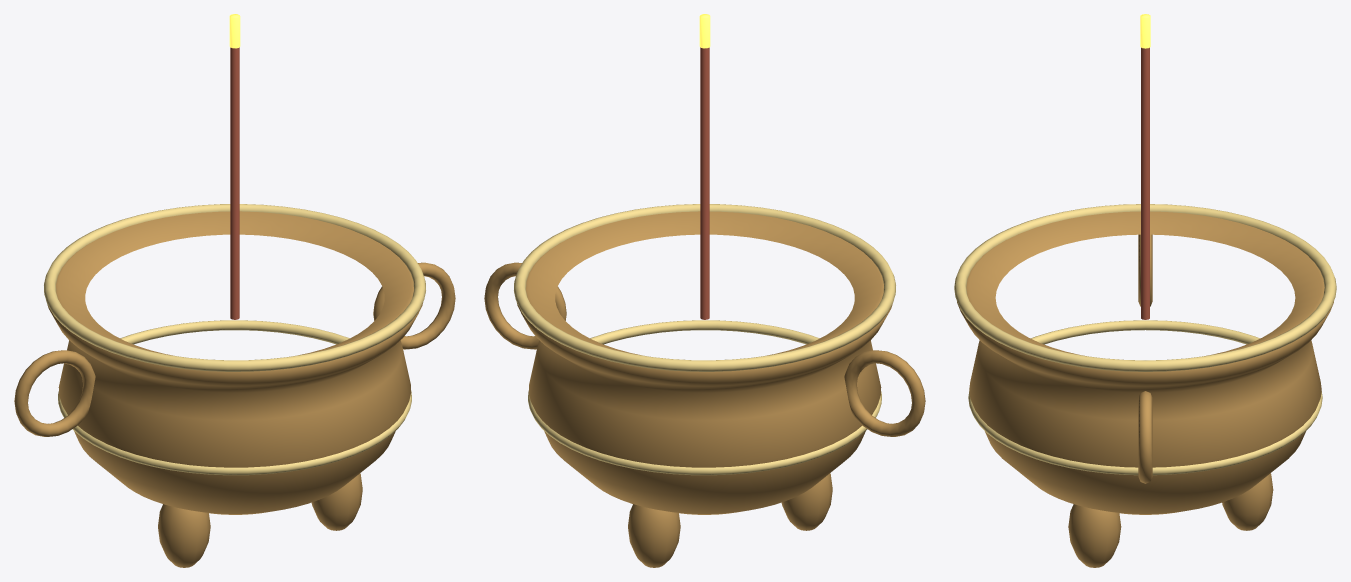
The model's file is incense_1.glb.
3 views of the same model, side by side, from view 1: azimuth 30°, elevation 25°; view 2: azimuth 150°, elevation 25°; view 3: azimuth 270°, elevation 25° (orthographic).
Parts seen in each view (by area): view 1: censer, lip, band, ear-1, stick0, foot1, ear1, foot0; view 2: censer, lip, band, ear-1, stick0, foot2, ear1, foot1; view 3: censer, lip, band, foot0, stick0, foot2, ear1.
Boxes of the visible parts, x1,y1,x2,y2 form: censer: (47,211,422,514); lip: (44,204,425,371); band: (58,320,411,475); ear-1: (14,350,95,436); stick0: (230,47,239,319); foot1: (158,504,210,567); ear1: (373,262,455,349); foot0: (311,473,362,530); censer: (517,211,892,514); lip: (514,204,895,371); band: (528,320,881,475); ear-1: (844,350,925,436); stick0: (700,47,709,319); foot2: (628,504,680,567); ear1: (484,262,566,349); foot1: (781,473,832,530); censer: (957,211,1333,514); lip: (954,204,1336,371); band: (968,320,1322,475); foot0: (1068,504,1121,567); stick0: (1141,47,1149,319); foot2: (1222,473,1273,530); ear1: (1138,391,1152,483).
Size of the model in its own units: 1.15 by 1.28 by 0.868.
